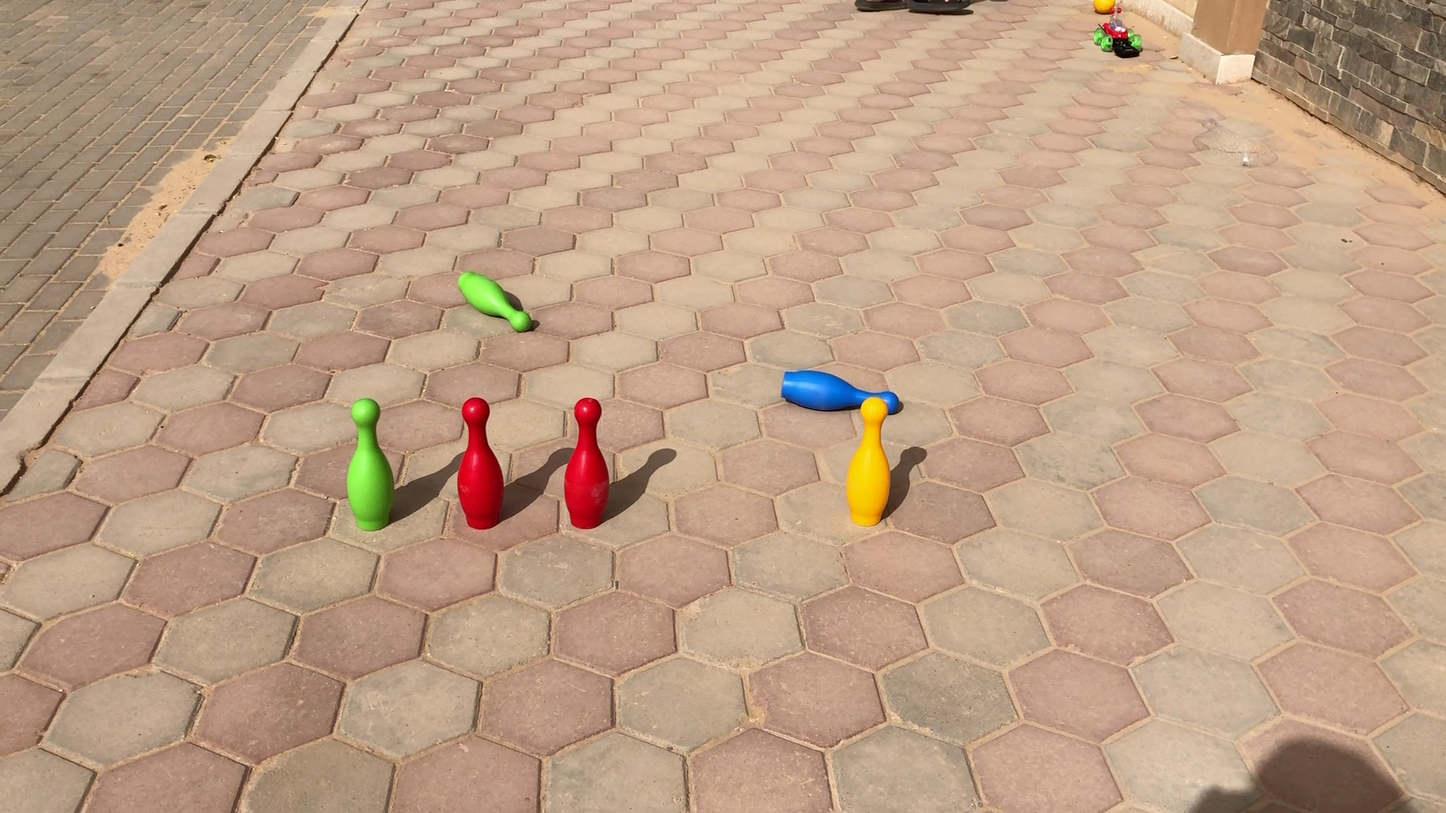pin: (776, 365, 904, 421), (457, 397, 505, 528), (447, 268, 537, 337), (346, 399, 393, 530), (850, 395, 895, 524), (565, 398, 609, 528)
